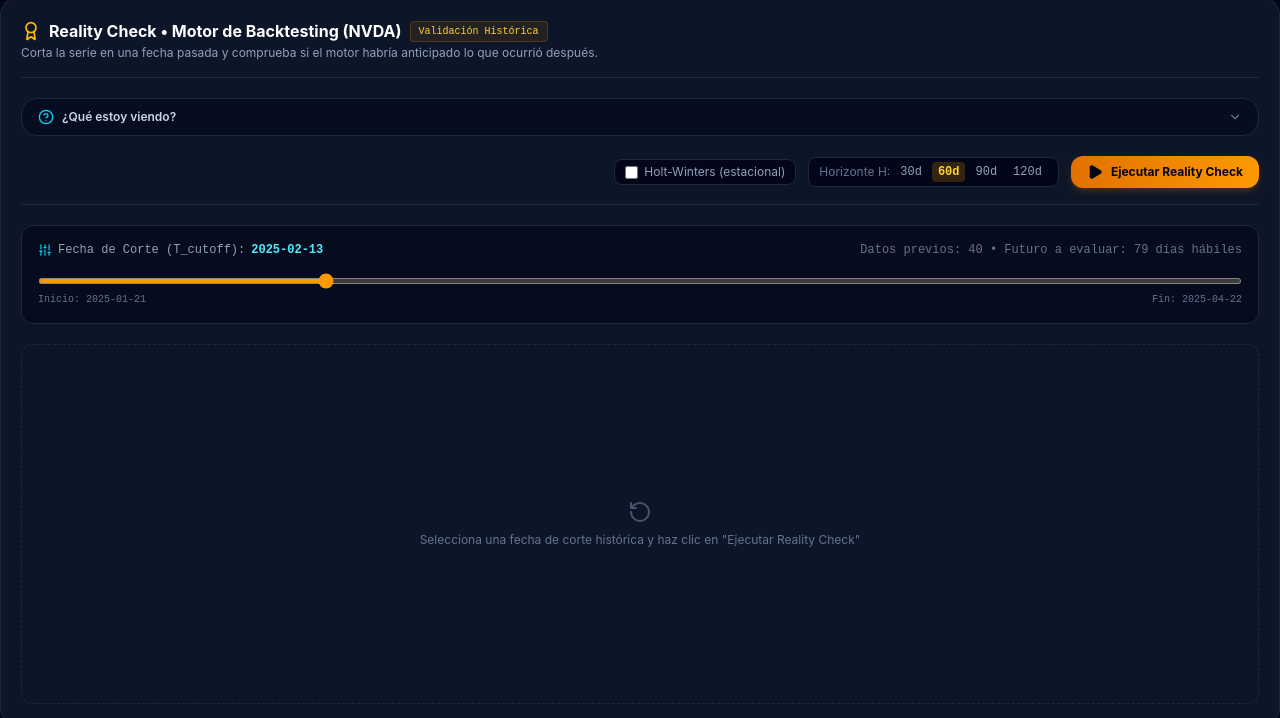
Scenario: BacktestPanel › shows no fallback notice when TimesFM really ran, and lists backend warnings
Click the button "Ejecutar Reality Check" at (1165,172), box top-left (1071, 156), bottom-right (1259, 188)
(page scrolled)
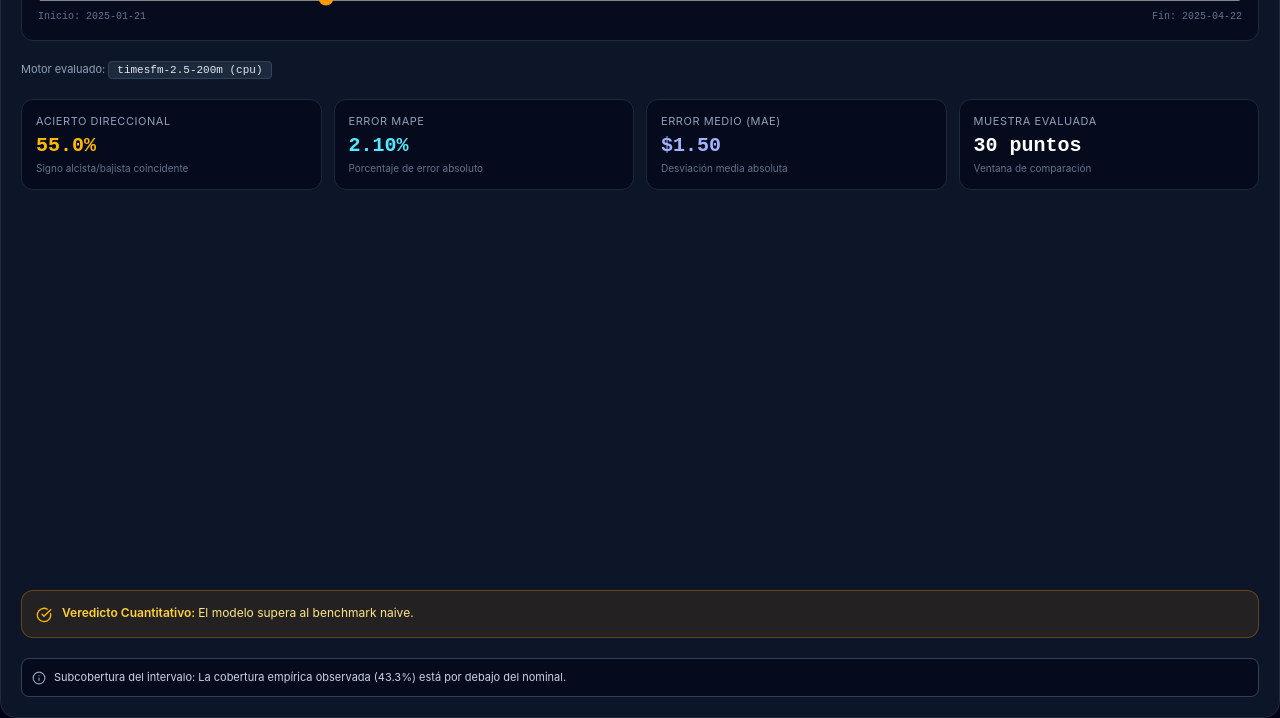
Result: the text "Veredicto Cuantitativo: El modelo supera al benchmark naive." is shown at top-left (62, 606), bottom-right (414, 622)
Result: the list named "Advertencias del backtest" shows "Subcobertura del intervalo" at top-left (54, 670), bottom-right (566, 684)
